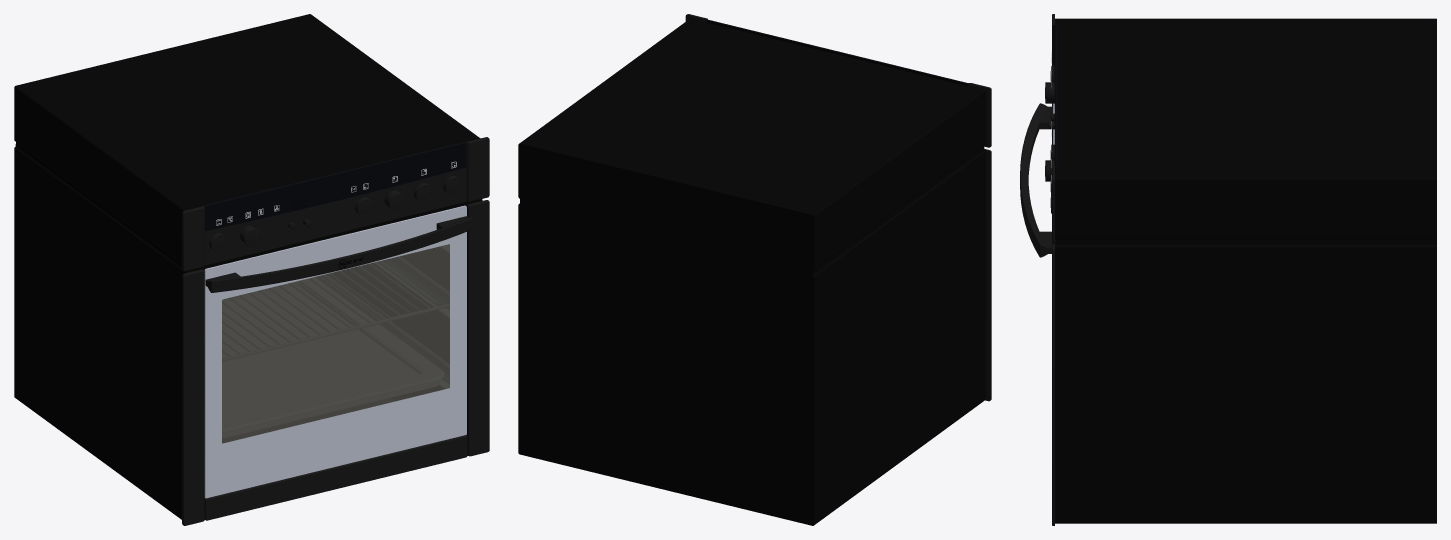
The model's file is oven.FBX.
3 views of the same model, side by side, from view 1: azimuth 30°, elevation 25°; view 2: azimuth 150°, elevation 25°; view 3: azimuth 270°, elevation 25° (orthographic). The views are drawn at different scales.
Parts seen in each view (by area): view 1: ÊÎÐÏÓÑ, Shape210, Group02, Shape211, Shape209, Iai08, iie10, Iai07; view 2: ÊÎÐÏÓÑ, Shape211; view 3: ÊÎÐÏÓÑ, Shape209, Shape211.
Boxes of the visible parts, <box> form: ÊÎÐÏÓÑ: <box>14,14,489,525</box>; Shape210: <box>204,205,467,520</box>; Group02: <box>222,261,449,438</box>; Shape211: <box>203,141,466,230</box>; Shape209: <box>205,216,472,292</box>; Iai08: <box>316,274,449,376</box>; iie10: <box>374,259,449,318</box>; Iai07: <box>388,256,449,303</box>; ÊÎÐÏÓÑ: <box>518,14,991,525</box>; Shape211: <box>706,20,968,86</box>; ÊÎÐÏÓÑ: <box>1052,14,1436,525</box>; Shape209: <box>1020,103,1053,257</box>; Shape211: <box>1054,25,1057,169</box>.
Size of the model in its own units: 15251 by 14945 by 16226.
